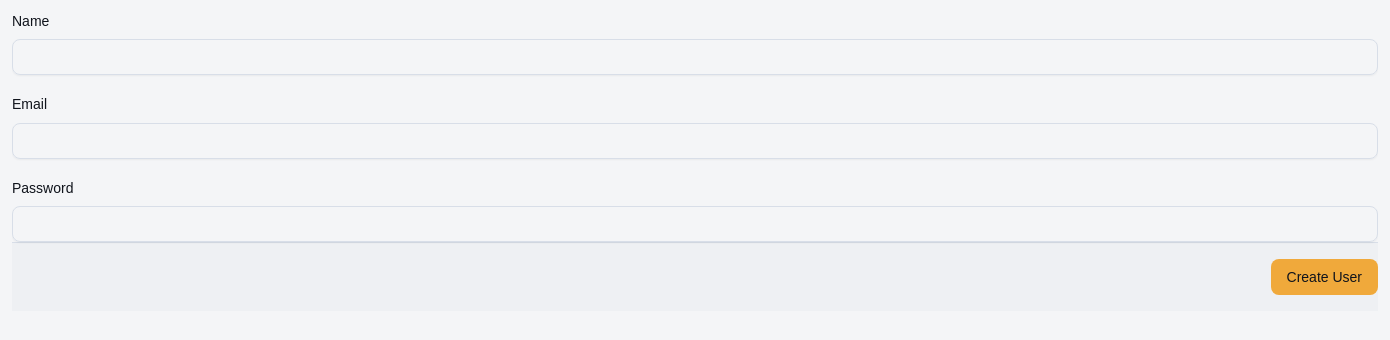
Scenario: CreateUserForm › shows a validation error and blocks submission when the email is invalid
Type "Ada Lovelace" into the field labelled "Name".
click(695, 57); type("Ada Lovelace")  # box [12,39,1378,75]
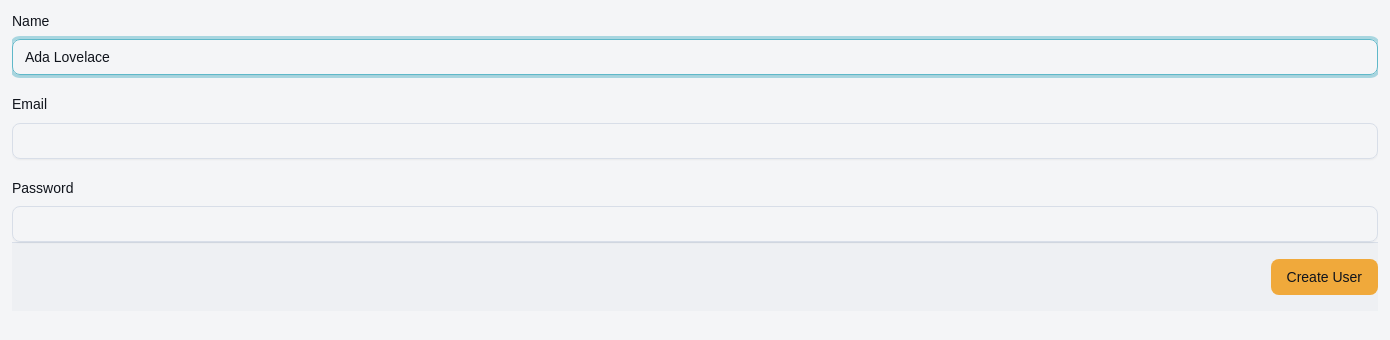
Type "notanemail" into the field labelled "Email".
click(695, 140); type("notanemail")  # box [12,122,1378,158]
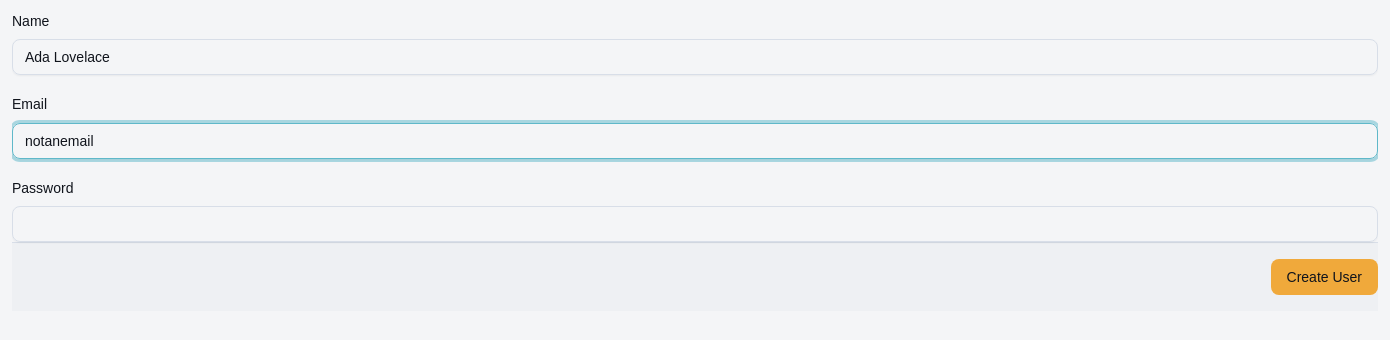
Type "password123" into the password field labelled "Password".
click(695, 224); type("password123")  # box [12,206,1378,242]
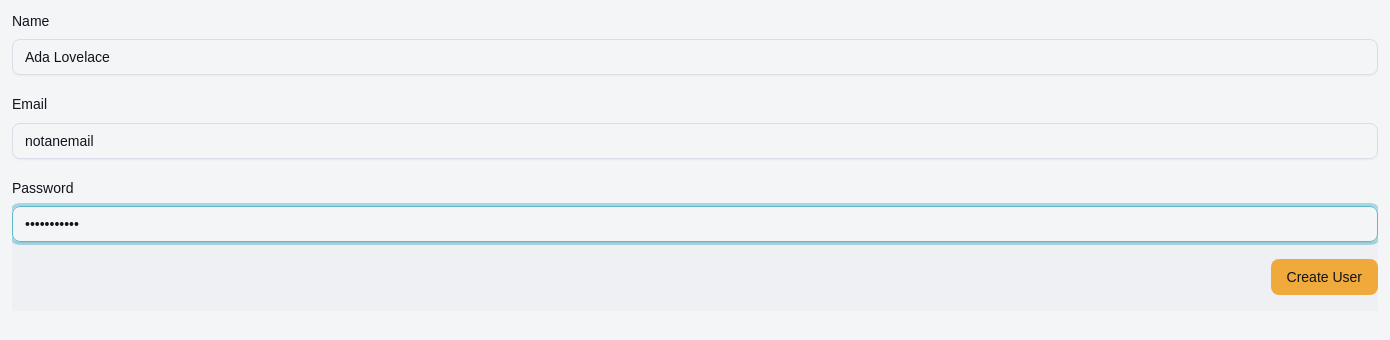
Click the button "Create User".
click(1324, 277)  # box [1270,259,1378,295]
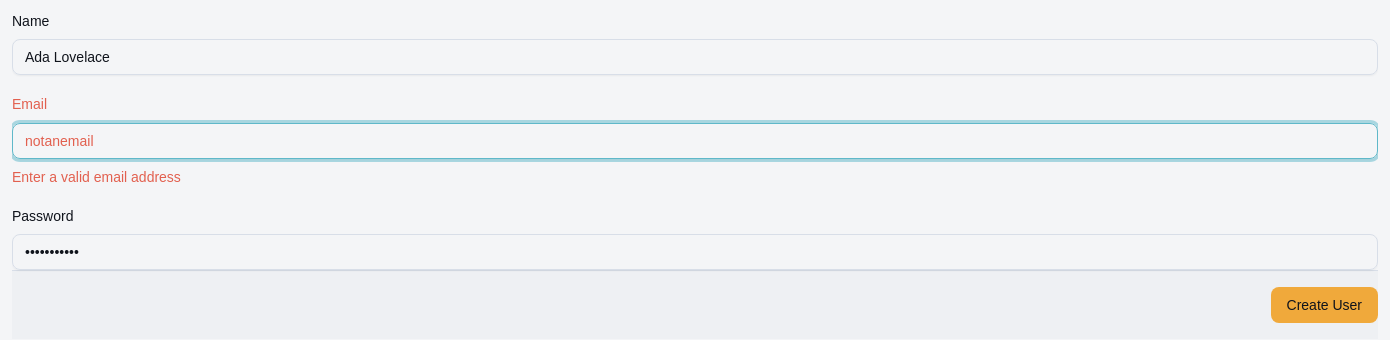
Check: the text "Enter a valid email address" is shown, box [12,168,181,184]
